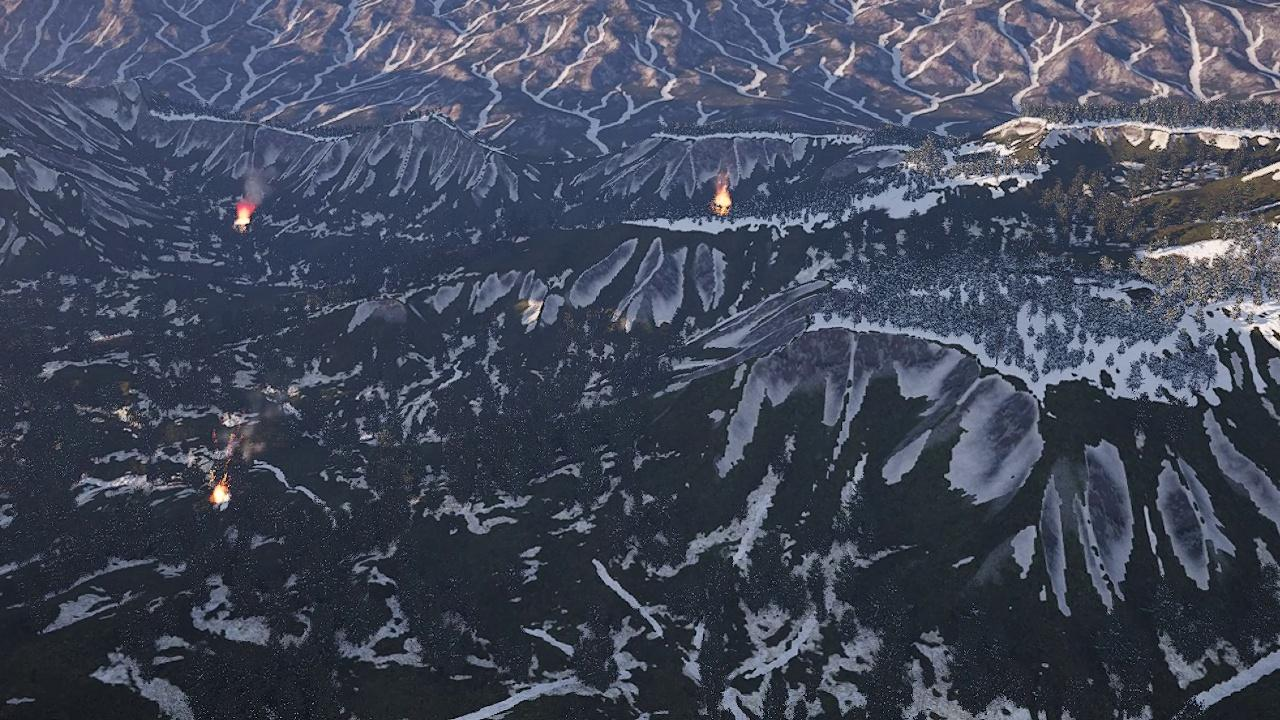fire: (232, 203, 253, 230), (713, 184, 730, 213), (212, 485, 231, 507)
smoke: (222, 386, 298, 461), (237, 168, 271, 208)
